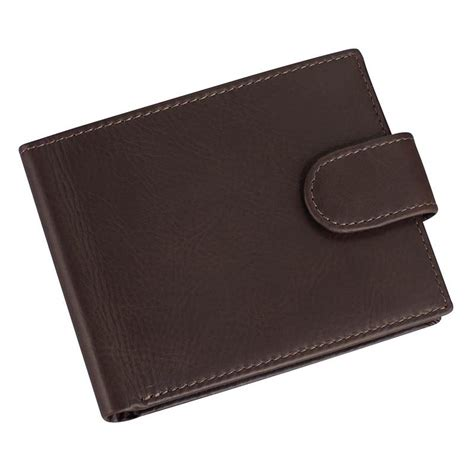cuero: (18, 48, 456, 422)
